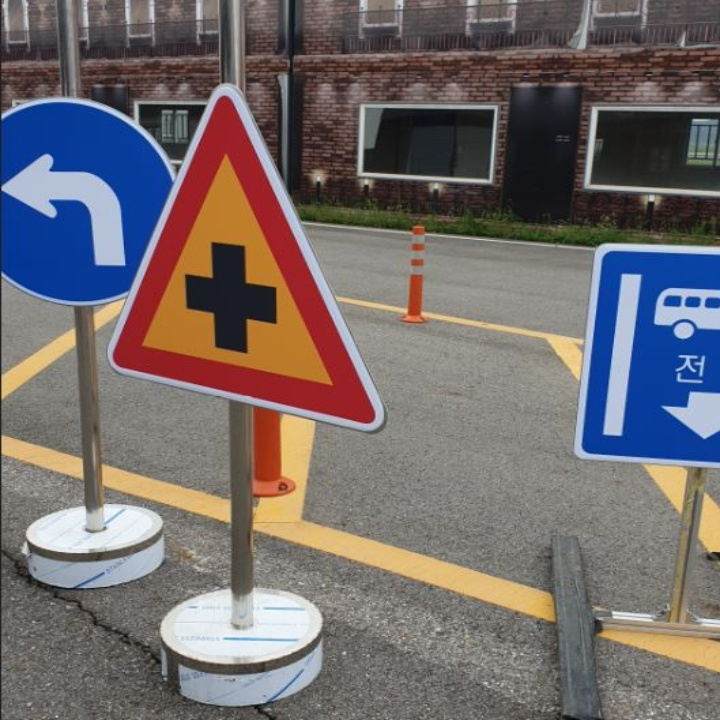inter: (170, 234, 292, 363)
left: (1, 147, 131, 274)
